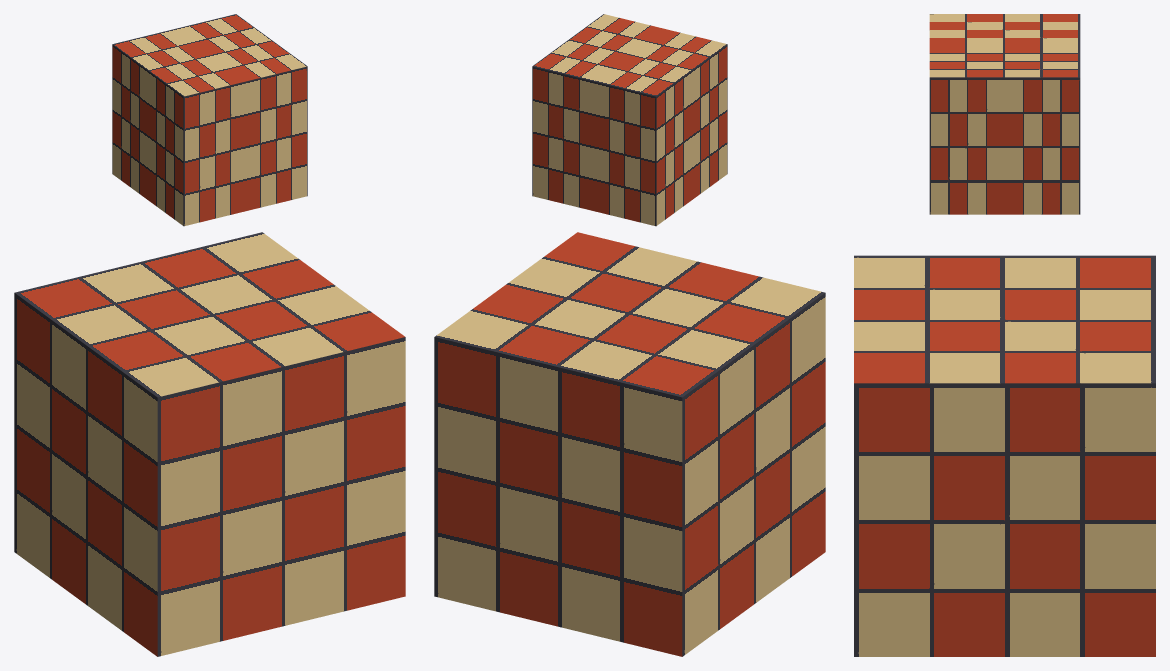
File: props.gltf
3 renders of one model, left to right at view 1: azimuth 30°, elevation 25°; view 2: azimuth 150°, elevation 25°; view 3: azimuth 270°, elevation 25°, orthographic. The views are drawn at different scales.
Visible parts, largest first — view 1: Base, Spinner; view 2: Base, Spinner; view 3: Base, Spinner.
Part boxes in pixels (x1,y1,x2,y2): Base: (14, 232, 405, 656); Spinner: (112, 14, 307, 226); Base: (434, 232, 825, 656); Spinner: (532, 14, 727, 226); Base: (854, 255, 1155, 656); Spinner: (929, 14, 1080, 214).
Size of the model in its own units: 1 by 2 by 1.
1 material, 1 textured.
